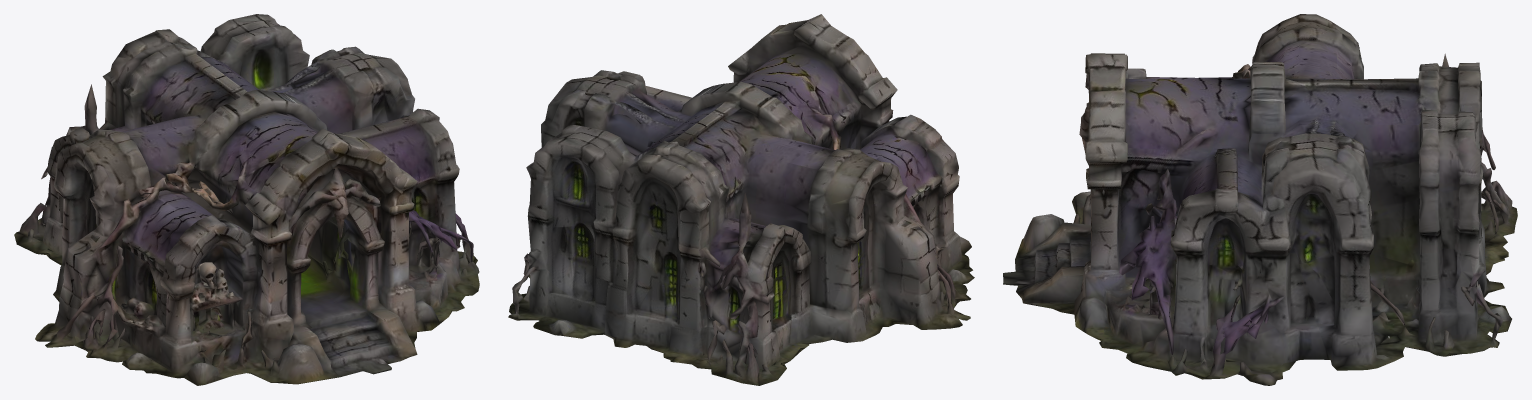
3 renders of one model, left to right at view 1: azimuth 30°, elevation 25°; view 2: azimuth 150°, elevation 25°; view 3: azimuth 270°, elevation 25°, orthographic. The views are drawn at different scales.
Visible parts, largest first — view 1: tripo_node_7605dd67-c01d-44ff-b44b-335e08ccef5f; view 2: tripo_node_7605dd67-c01d-44ff-b44b-335e08ccef5f; view 3: tripo_node_7605dd67-c01d-44ff-b44b-335e08ccef5f.
Part boxes in pixels (box(x1,y1,x2,y2)): tripo_node_7605dd67-c01d-44ff-b44b-335e08ccef5f: box(14, 14, 479, 385); tripo_node_7605dd67-c01d-44ff-b44b-335e08ccef5f: box(508, 14, 974, 385); tripo_node_7605dd67-c01d-44ff-b44b-335e08ccef5f: box(1003, 14, 1517, 385).
Size of the model in its own units: 3.6 by 1.69 by 3.44.
1 material, 1 textured.
